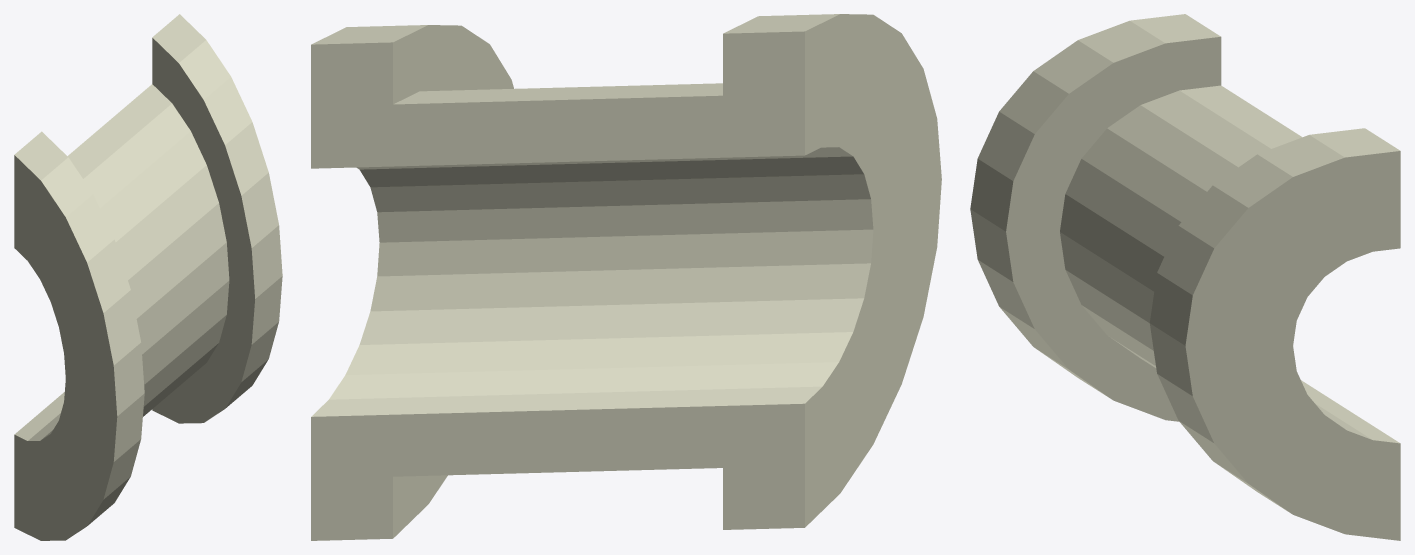
The model's file is section_058.obj.
3 views of the same model, side by side, from view 1: azimuth 30°, elevation 25°; view 2: azimuth 150°, elevation 25°; view 3: azimuth 270°, elevation 25° (orthographic). The views are drawn at different scales.
Size of the model in its own units: 6.02 by 8 by 8.
